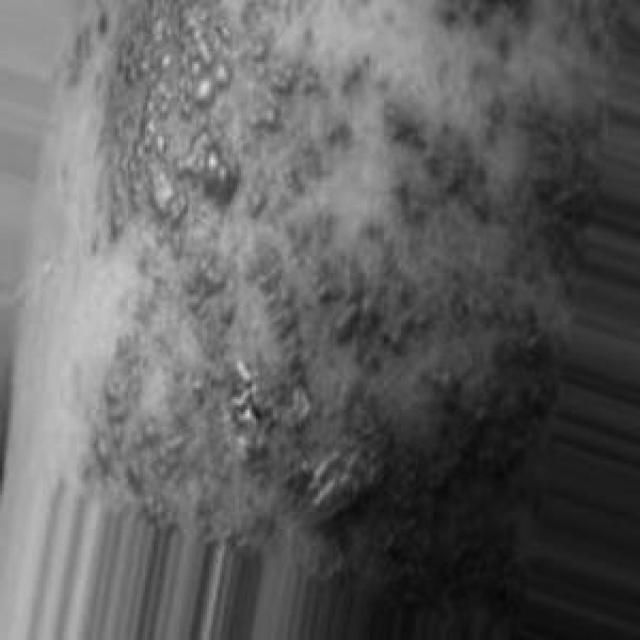Shingles: (46, 0, 598, 583)
